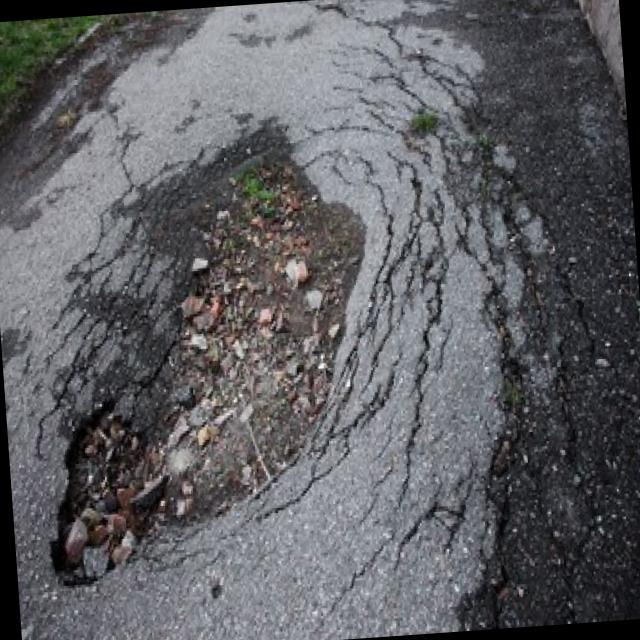Pothole: (16, 120, 386, 592)
